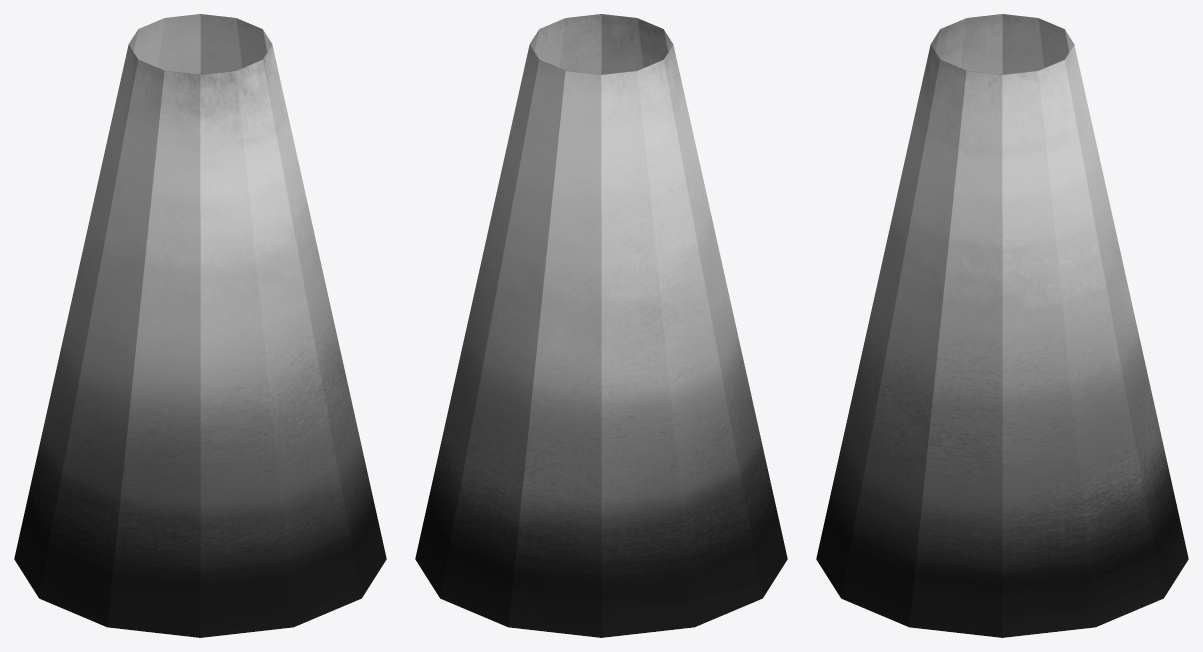
File: MainBulb.fbx
3 views of the same model, side by side, from view 1: azimuth 30°, elevation 25°; view 2: azimuth 150°, elevation 25°; view 3: azimuth 270°, elevation 25° (orthographic).
Parts seen in each view (by area): view 1: Cylinder; view 2: Cylinder; view 3: Cylinder.
Boxes of the visible parts, x1,y1,x2,y2 form: Cylinder: (14, 14, 386, 637); Cylinder: (415, 14, 787, 637); Cylinder: (816, 14, 1188, 637).
Size of the model in its own units: 47.79 by 72.86 by 47.79.
